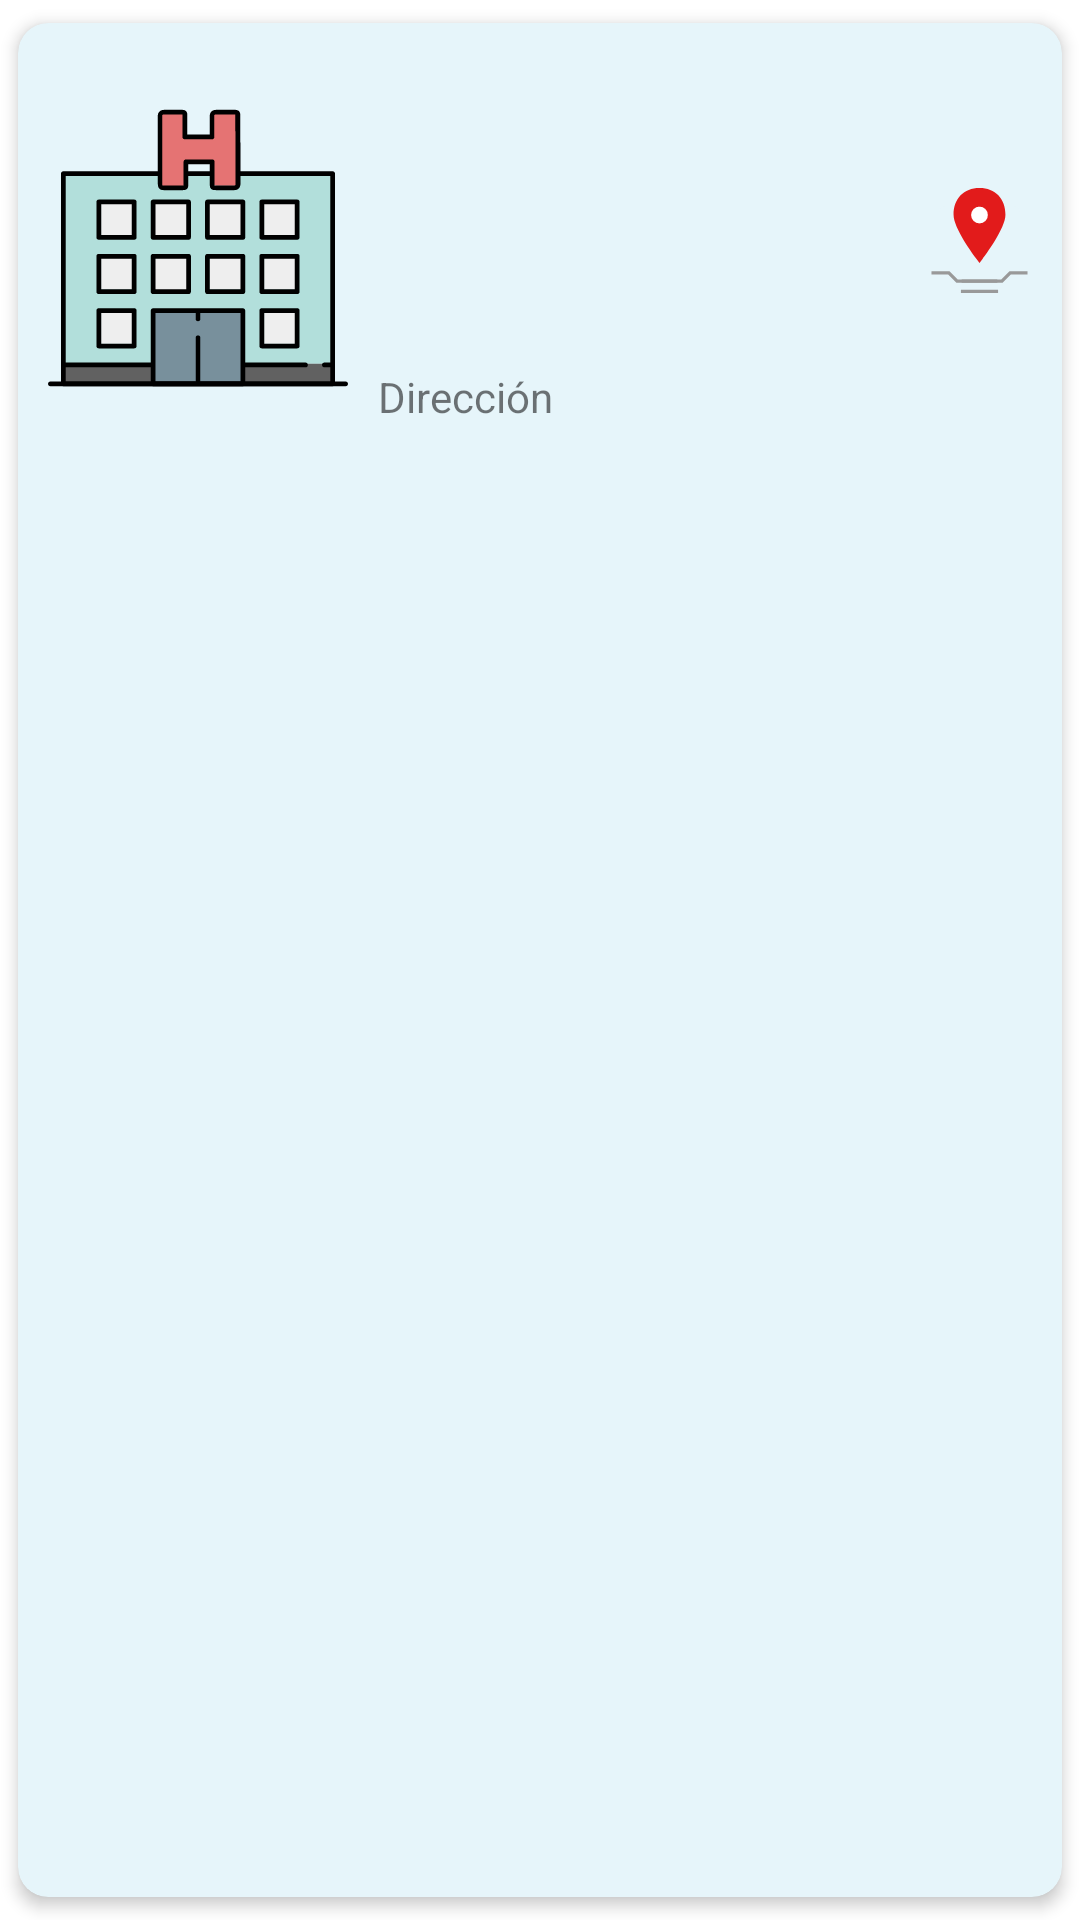

Icon bounding boxes for this 1080×1920 phone screenshot, format (x1, y1, x2, y2):
hospital: (48, 109, 348, 387)
